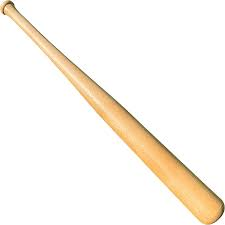baseball bat: (1, 1, 222, 223)
